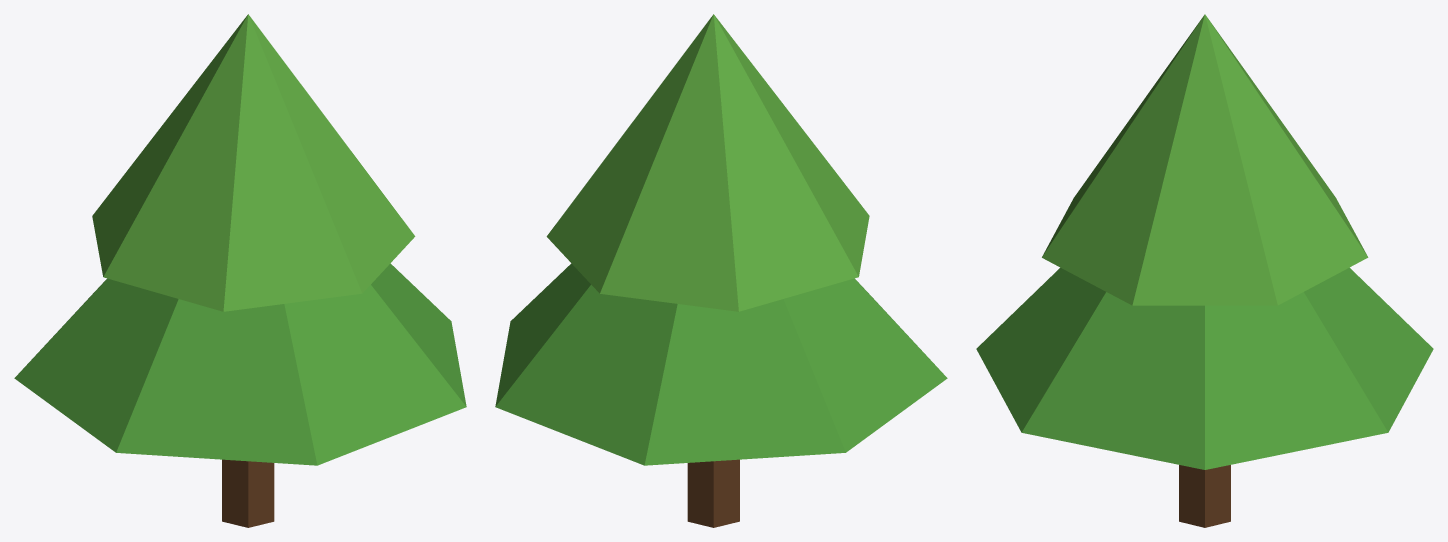
The model's file is SM_PineC_G.obj.
3 renders of one model, left to right at view 1: azimuth 30°, elevation 25°; view 2: azimuth 150°, elevation 25°; view 3: azimuth 270°, elevation 25°, orthographic.
Visible parts, largest first — view 1: SM_PineC_G; view 2: SM_PineC_G; view 3: SM_PineC_G.
Part boxes in pixels (x1,y1,x2,y2): SM_PineC_G: [14, 14, 466, 527]; SM_PineC_G: [495, 14, 947, 527]; SM_PineC_G: [976, 14, 1433, 527].
Bounding box in the file's own units: 5.32 × 6.6 × 5.46.
1 material, 1 textured.
